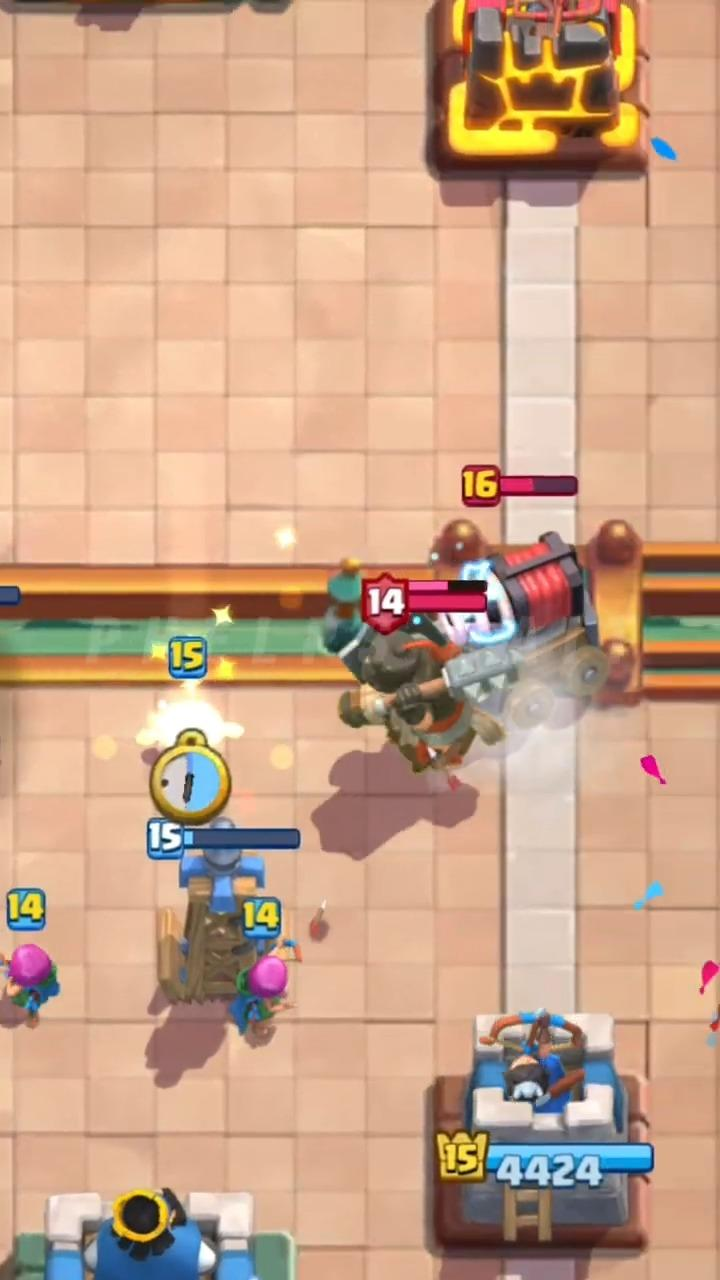archer: (229, 947, 291, 1043), (0, 943, 59, 1026)
dark prince: (339, 623, 511, 773)
ice spirit: (136, 694, 243, 749)
sparky: (430, 533, 608, 728)
tesla: (157, 872, 258, 1004)
